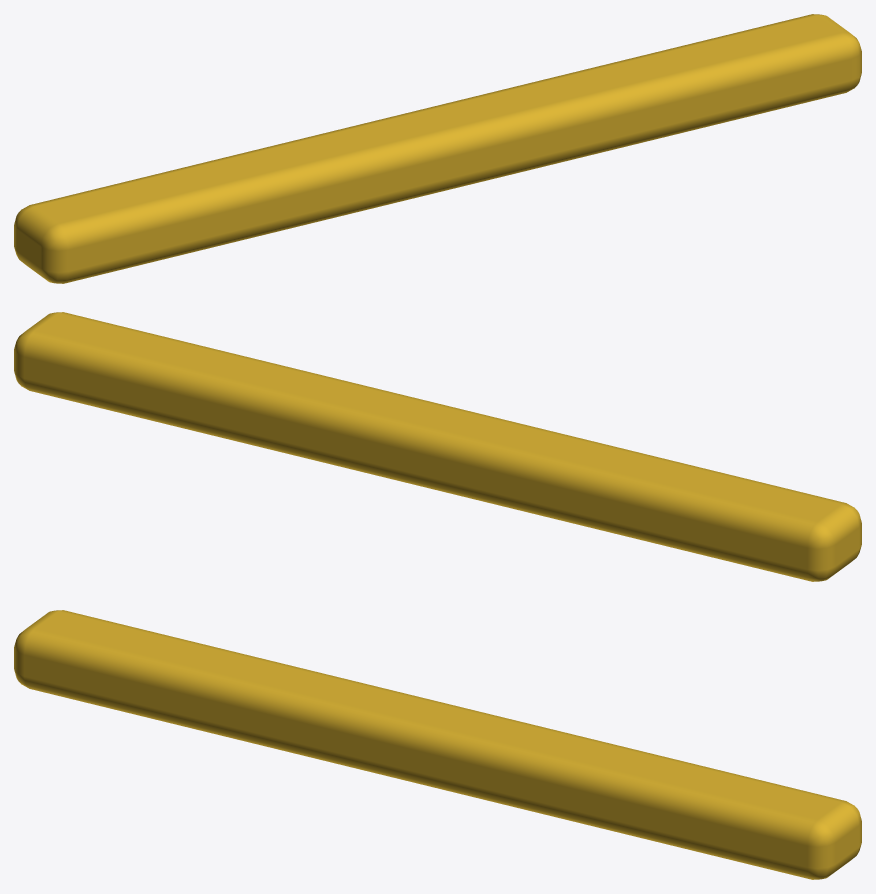
The model's file is wheel_stop.glb.
The picture shows the model from 3 angles, top to bottom: view 1: azimuth 30°, elevation 25°; view 2: azimuth 150°, elevation 25°; view 3: azimuth 330°, elevation 25°; orthographic projection.
Visible parts, largest first — view 1: wheel_stop; view 2: wheel_stop; view 3: wheel_stop.
Part boxes in pixels (x1,y1,x2,y2): wheel_stop: (14, 14, 861, 283); wheel_stop: (14, 312, 861, 581); wheel_stop: (14, 610, 861, 879).
Bounding box in the file's own units: 1.6 × 0.11 × 0.15.
